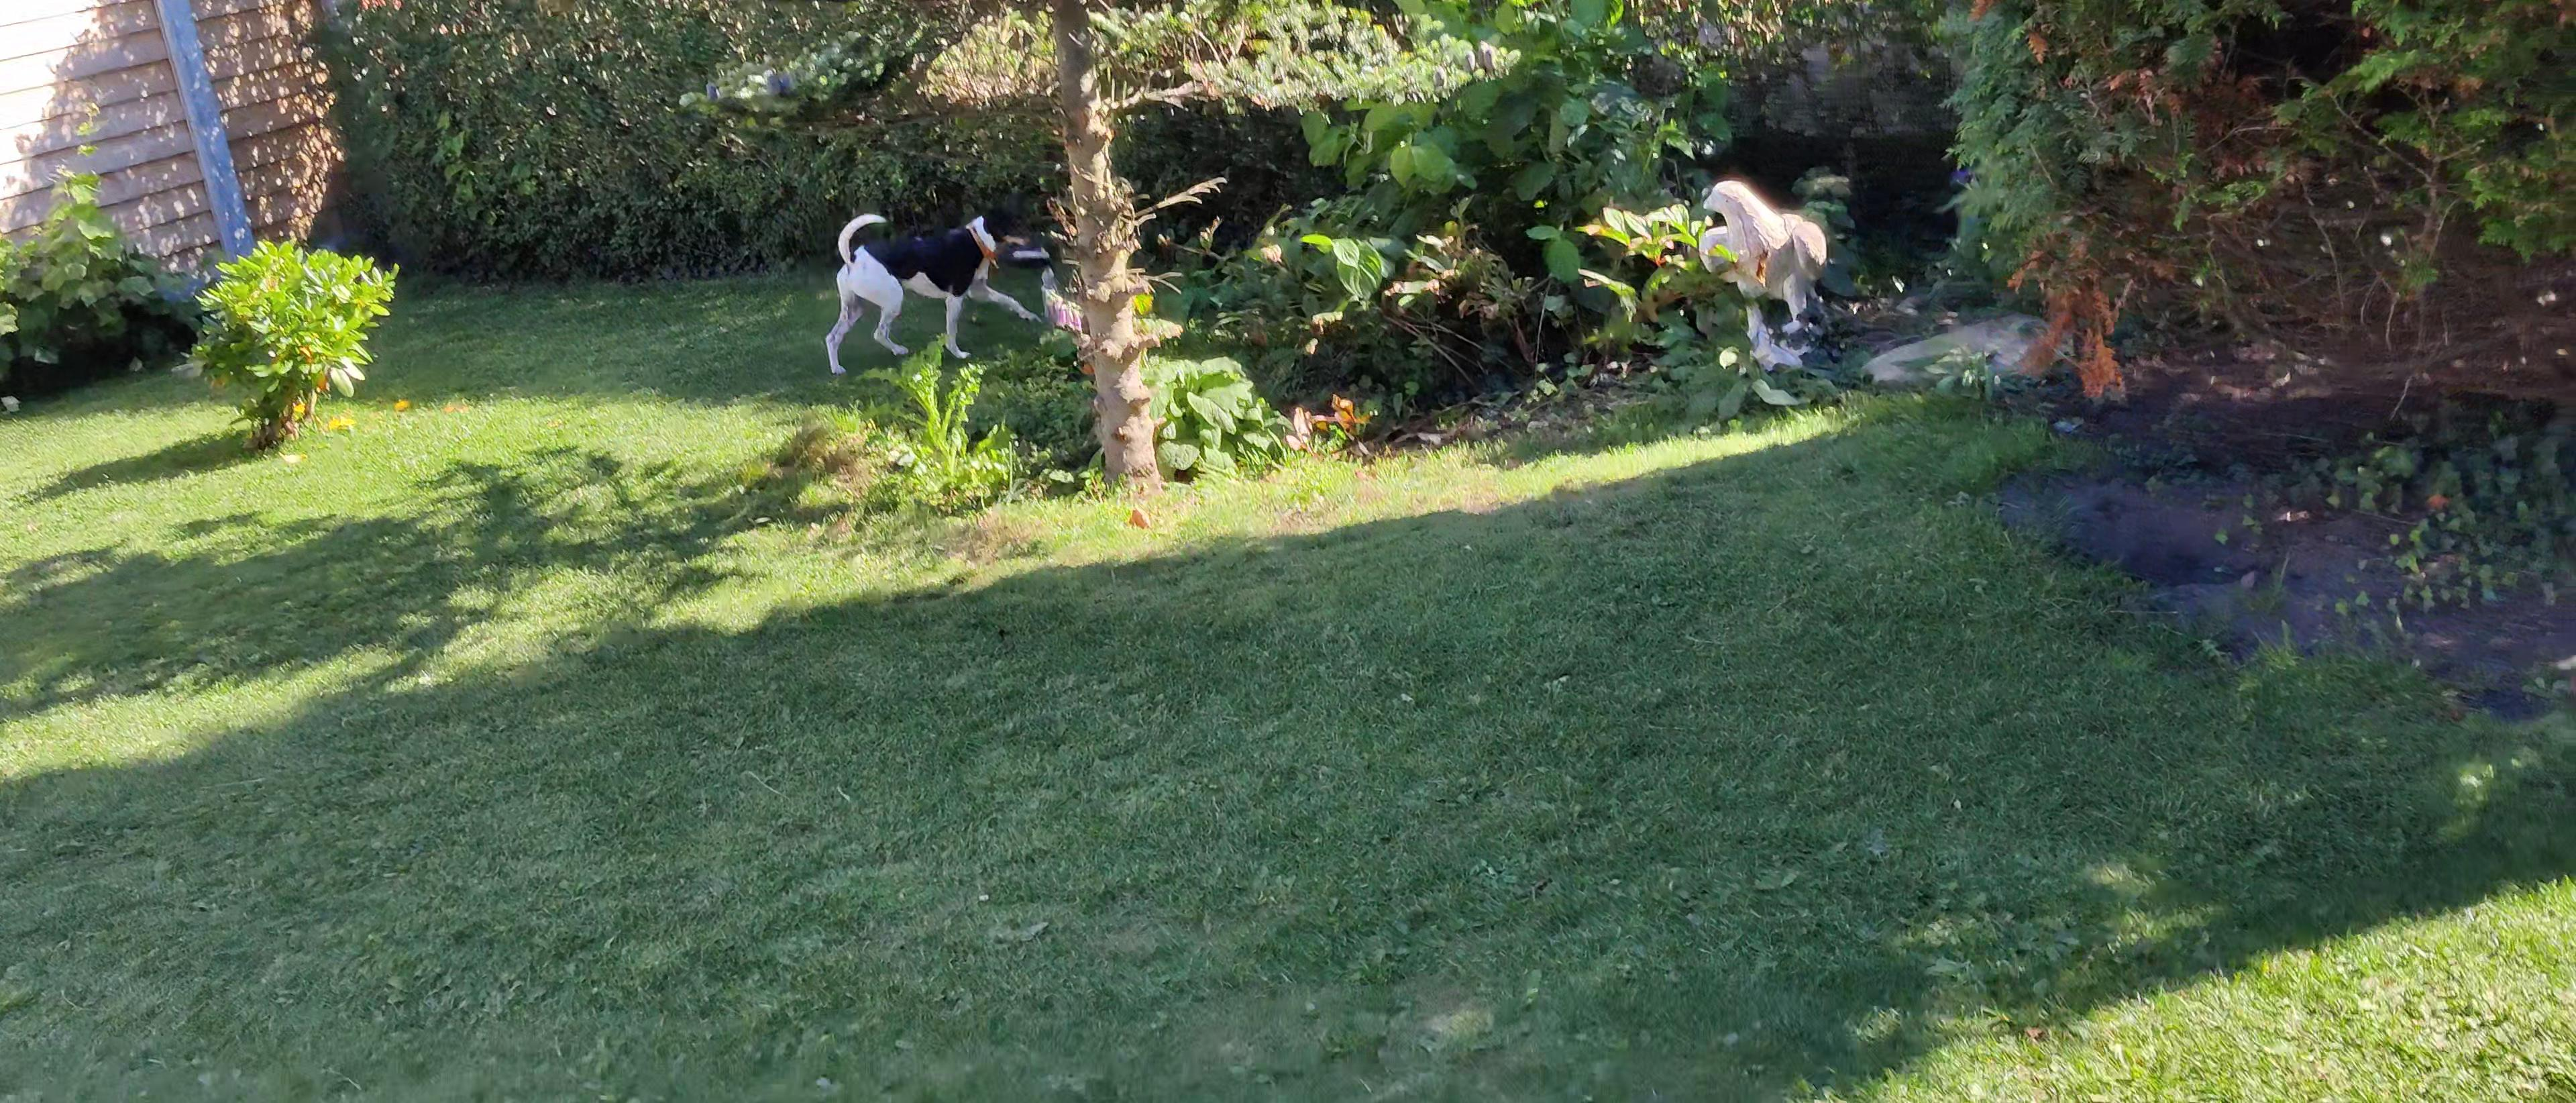Dog: (818, 209, 1045, 373)
